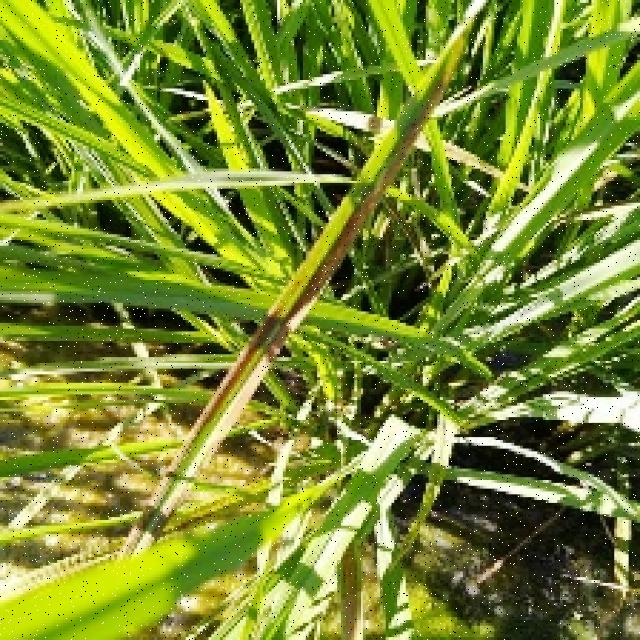health: (2, 485, 324, 640)
